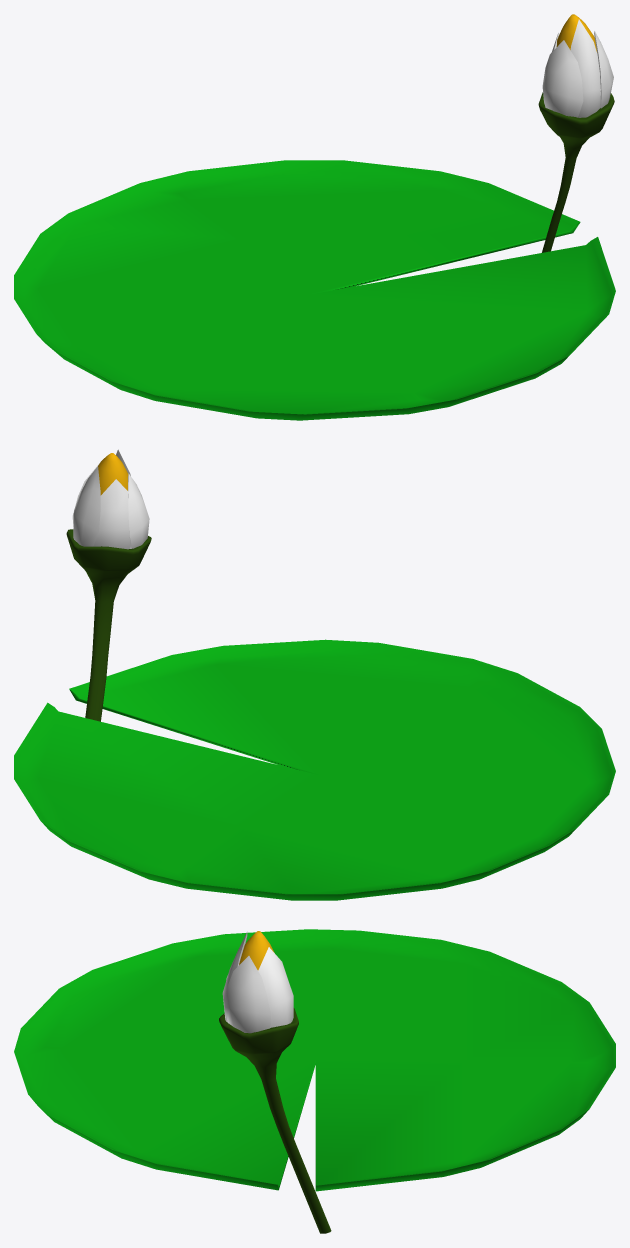
File: Waterlily_bud.fbx
3 views of the same model, one above another, from view 1: azimuth 30°, elevation 25°; view 2: azimuth 150°, elevation 25°; view 3: azimuth 270°, elevation 25° (orthographic).
Visible parts, largest first — view 1: waterlily; view 2: waterlily; view 3: waterlily.
Boxes of the visible parts, box(x1,y1,x2,y2) form: waterlily: box(14, 14, 615, 420); waterlily: box(14, 449, 615, 900); waterlily: box(14, 929, 615, 1233).
Bounding box in the file's own units: 13.04 × 7.2 × 12.89.
